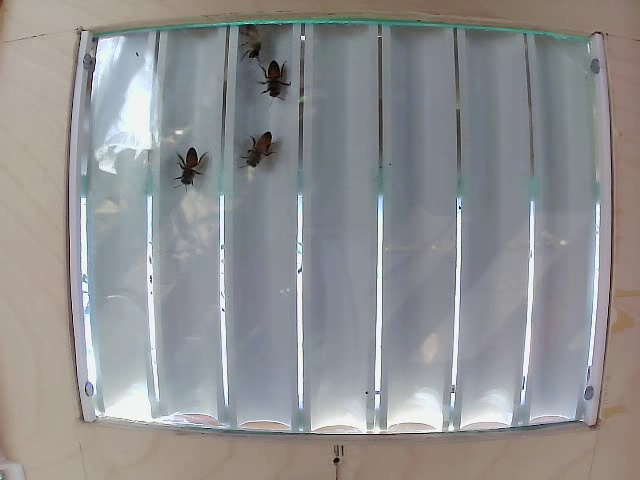bee: (169, 139, 211, 194), (231, 22, 270, 72), (235, 126, 273, 170), (261, 61, 297, 102)
